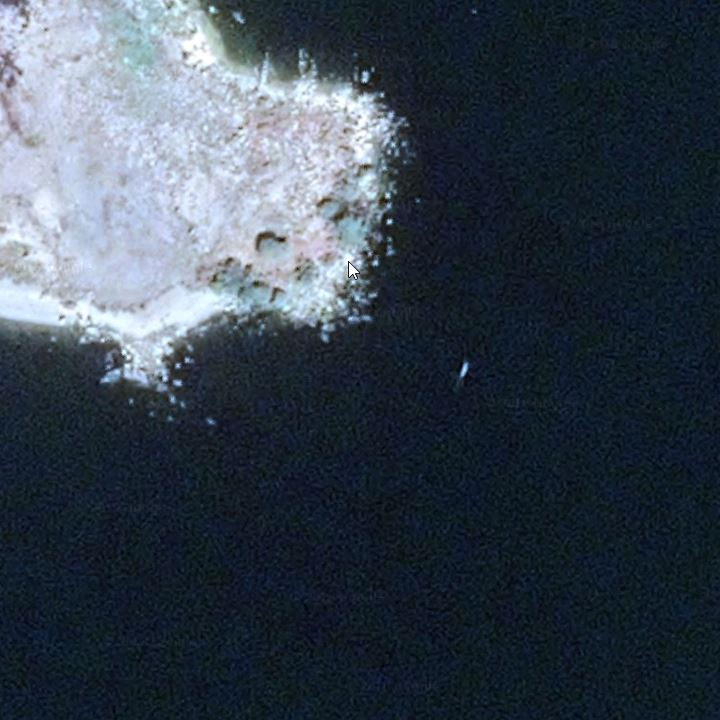boat: (450, 352, 477, 387), (259, 45, 273, 93)
